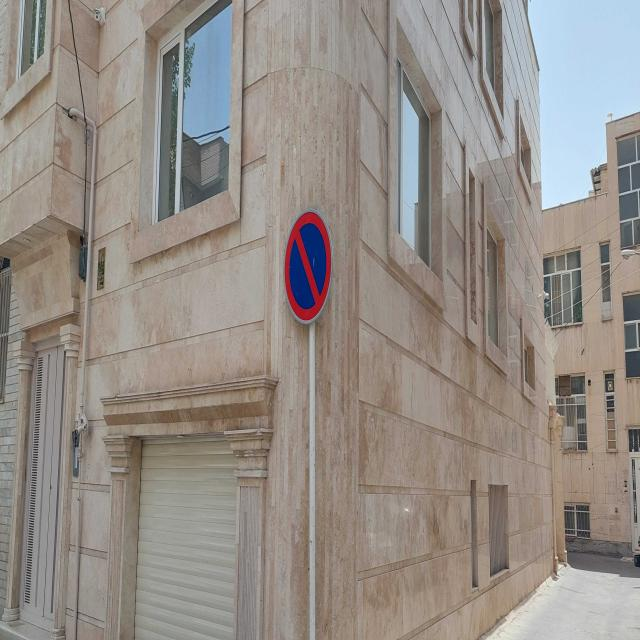forb_stopping: (284, 213, 332, 325)
